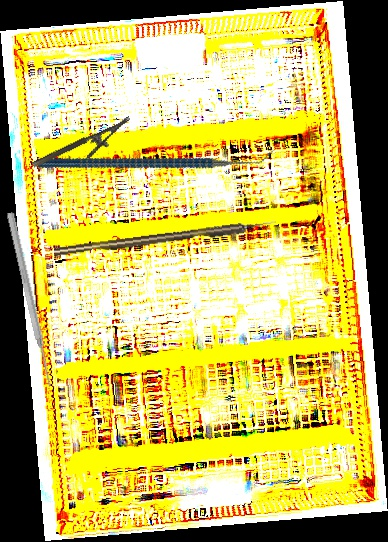Chopper: (37, 77, 275, 238)
Hook Surgical: (53, 218, 278, 258)
Needle Holder: (31, 116, 138, 181)
Pusher: (4, 211, 56, 390)
